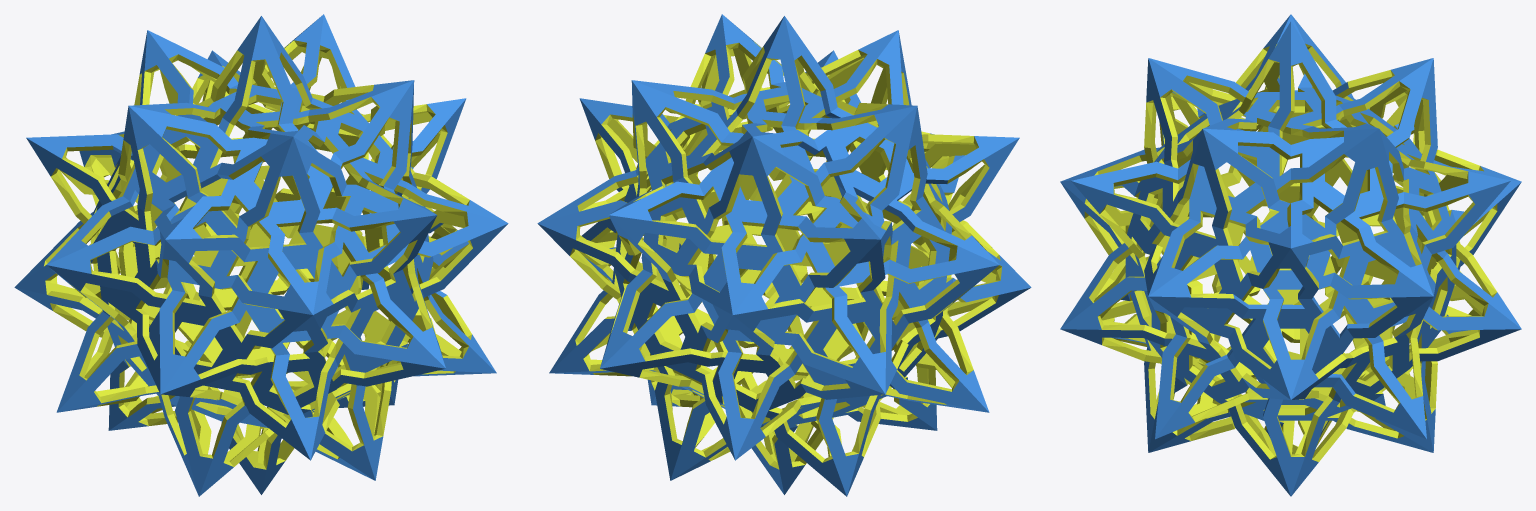
Rendered from StarPolyknotTruncatedIcosahedron1.glb.
The picture shows the model from 3 angles, left to right: view 1: azimuth 30°, elevation 25°; view 2: azimuth 150°, elevation 25°; view 3: azimuth 270°, elevation 25°; orthographic projection. The views are drawn at different scales.
Visible parts, largest first — view 1: ESSCHER_BBBa_A9; view 2: ESSCHER_BBBa_A9; view 3: ESSCHER_BBBa_A9.
Part boxes in pixels (x1,y1,x2,y2): ESSCHER_BBBa_A9: (14, 14, 508, 496); ESSCHER_BBBa_A9: (537, 14, 1031, 496); ESSCHER_BBBa_A9: (1060, 14, 1521, 496).
Bounding box in the file's own units: 141 × 150 × 134.
